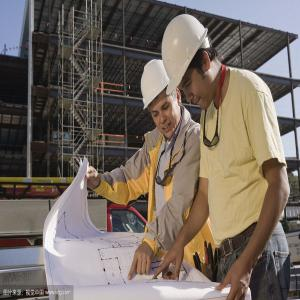white: (164, 14, 222, 114), (140, 59, 184, 138)
